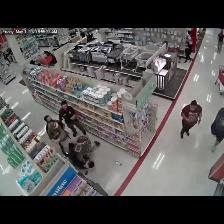person: (59, 101, 86, 136), (47, 122, 72, 152), (181, 101, 201, 138), (211, 108, 223, 151), (44, 116, 65, 132), (185, 41, 192, 62), (217, 30, 223, 53)
